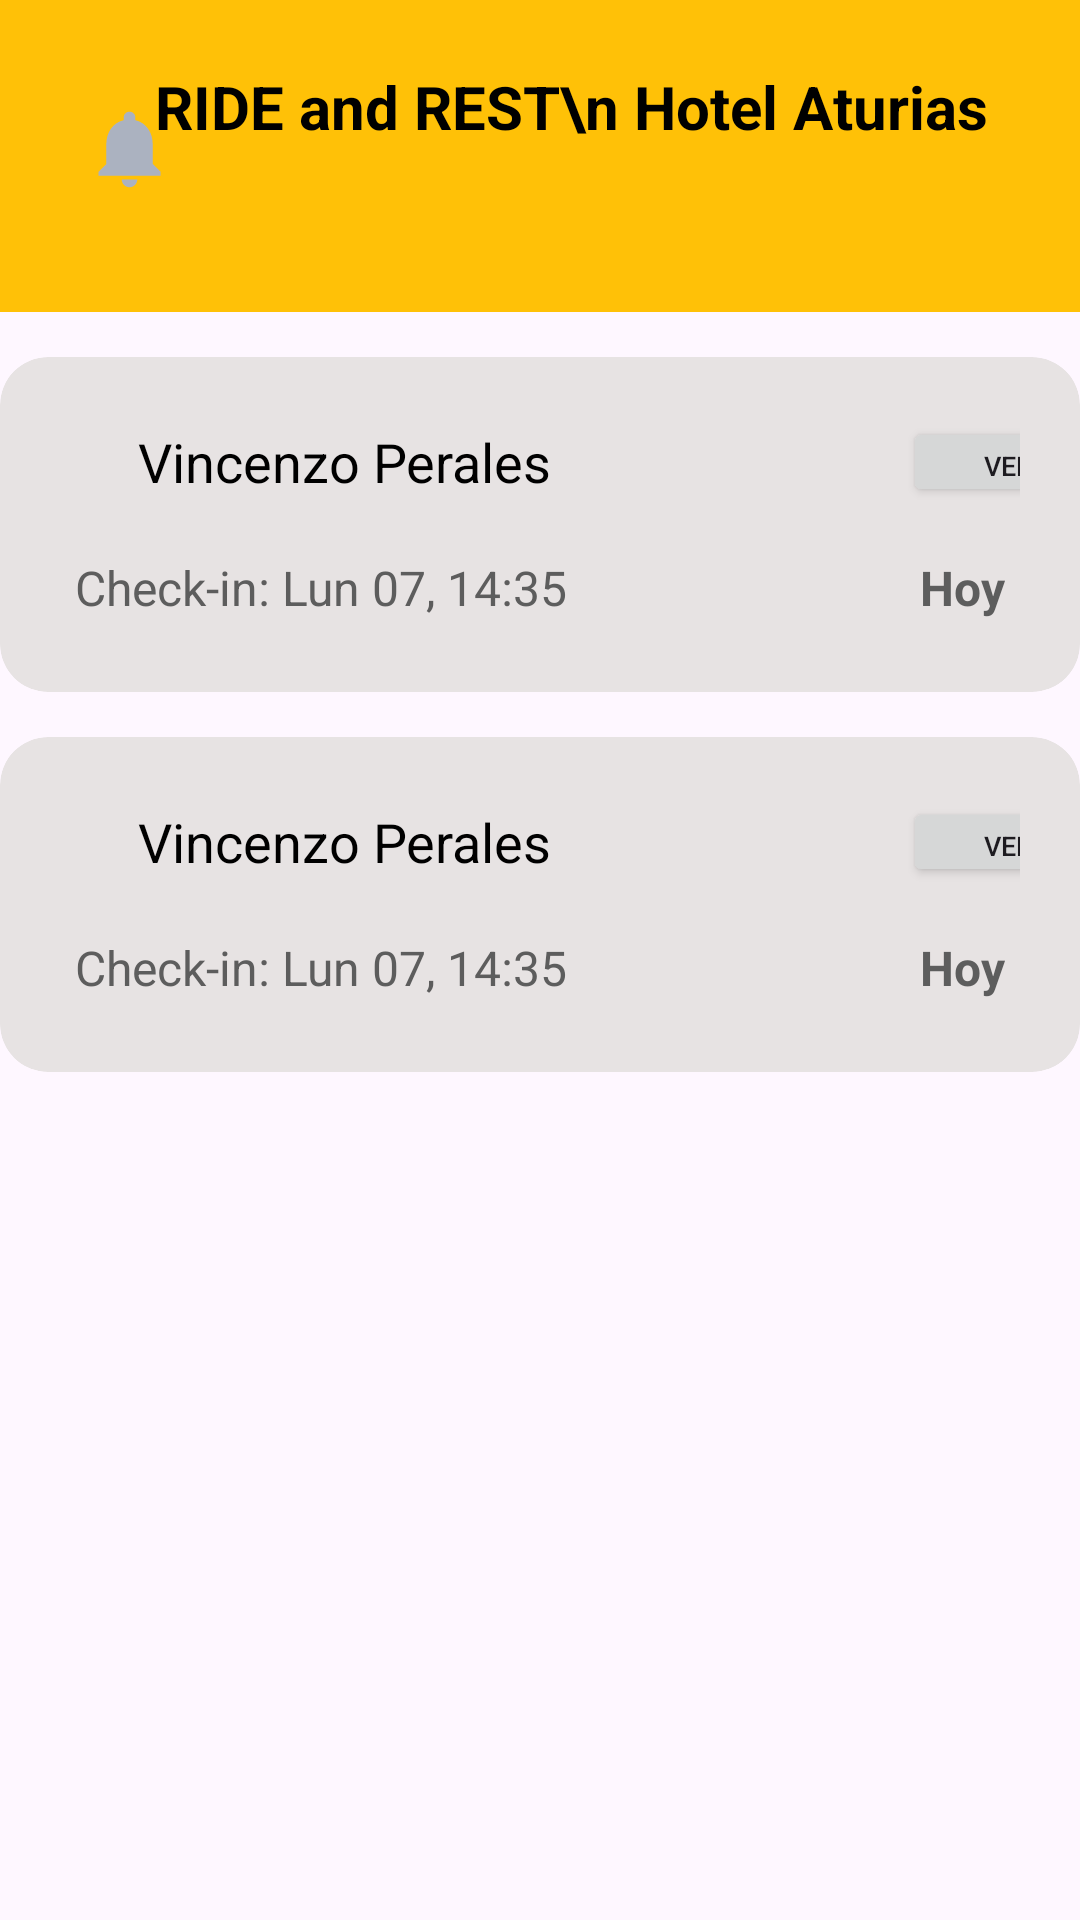

Named icons in this screenshot (1080×1920) and their centers, (x=x, y=y):
notifications: (x=129, y=149)
